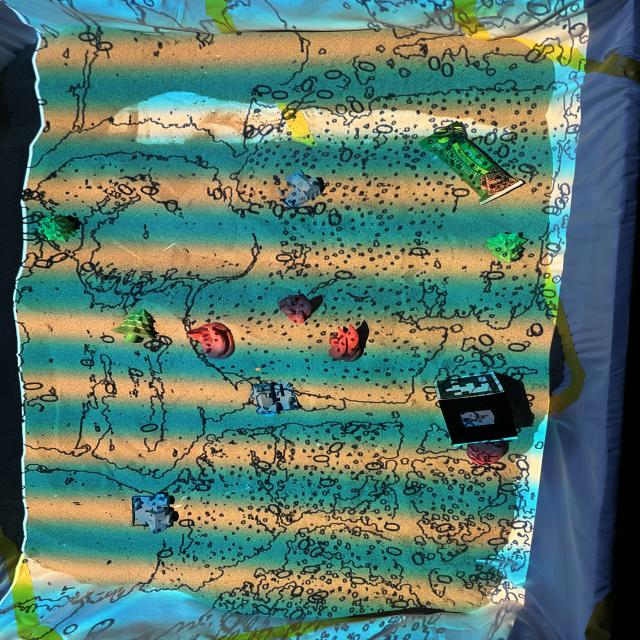fire: (188, 323, 236, 360), (328, 323, 364, 362), (278, 294, 312, 322), (467, 441, 508, 464)
house: (132, 493, 174, 535), (275, 170, 322, 207), (250, 382, 300, 414)
tree: (109, 308, 159, 344), (487, 232, 528, 262), (40, 214, 80, 242)
